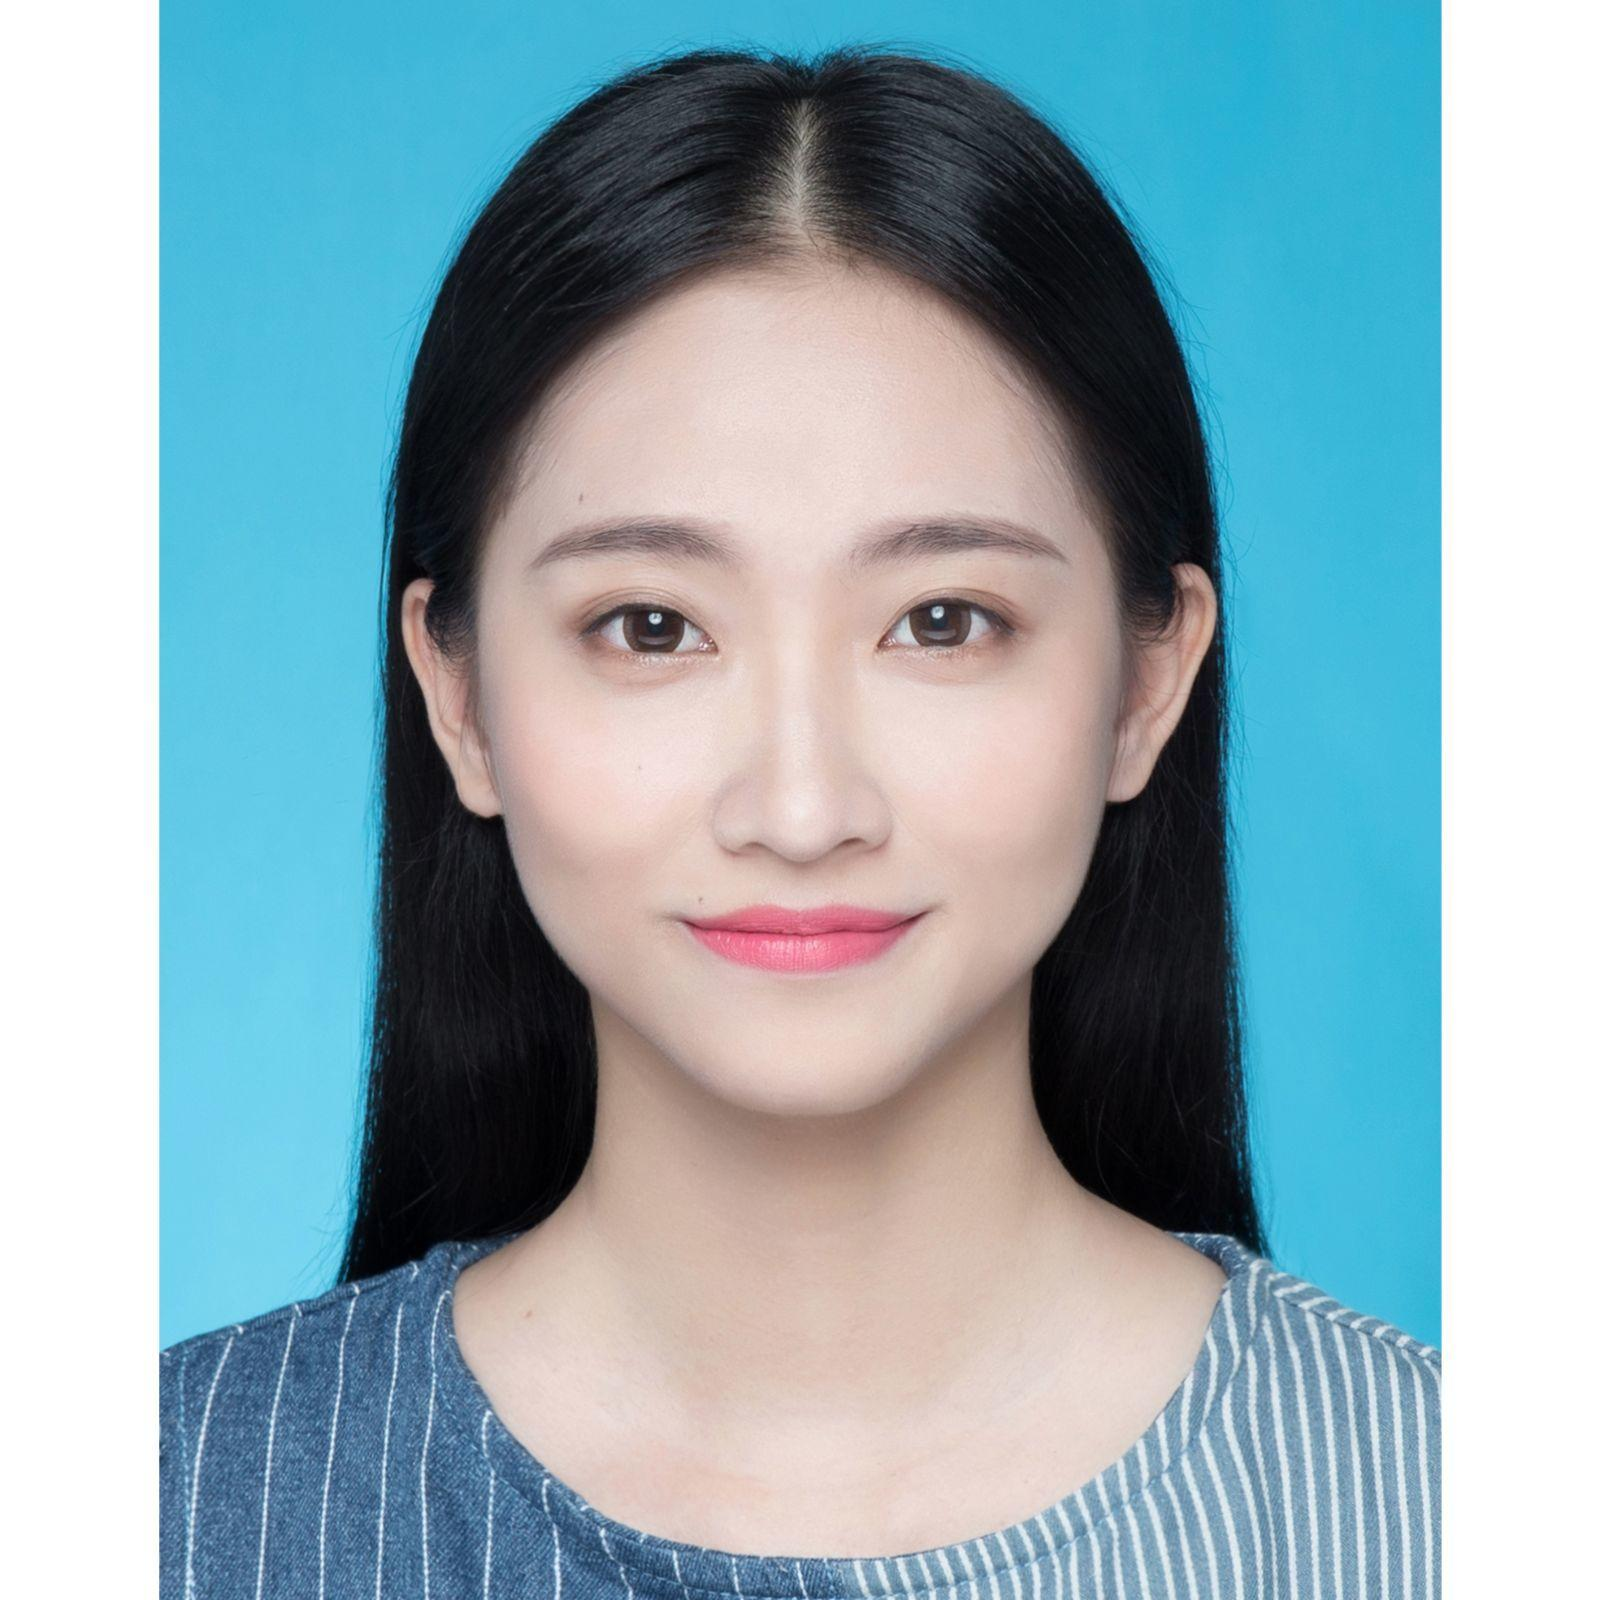unmask: (473, 317, 1127, 1117)
